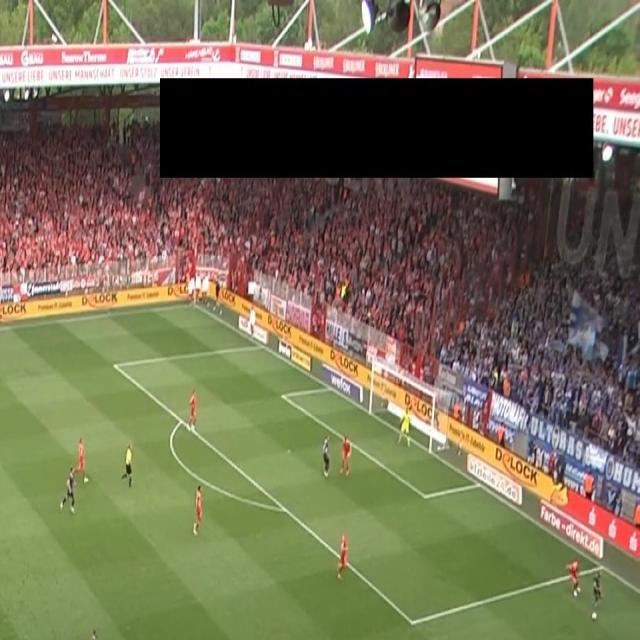ball: (591, 610, 598, 622)
